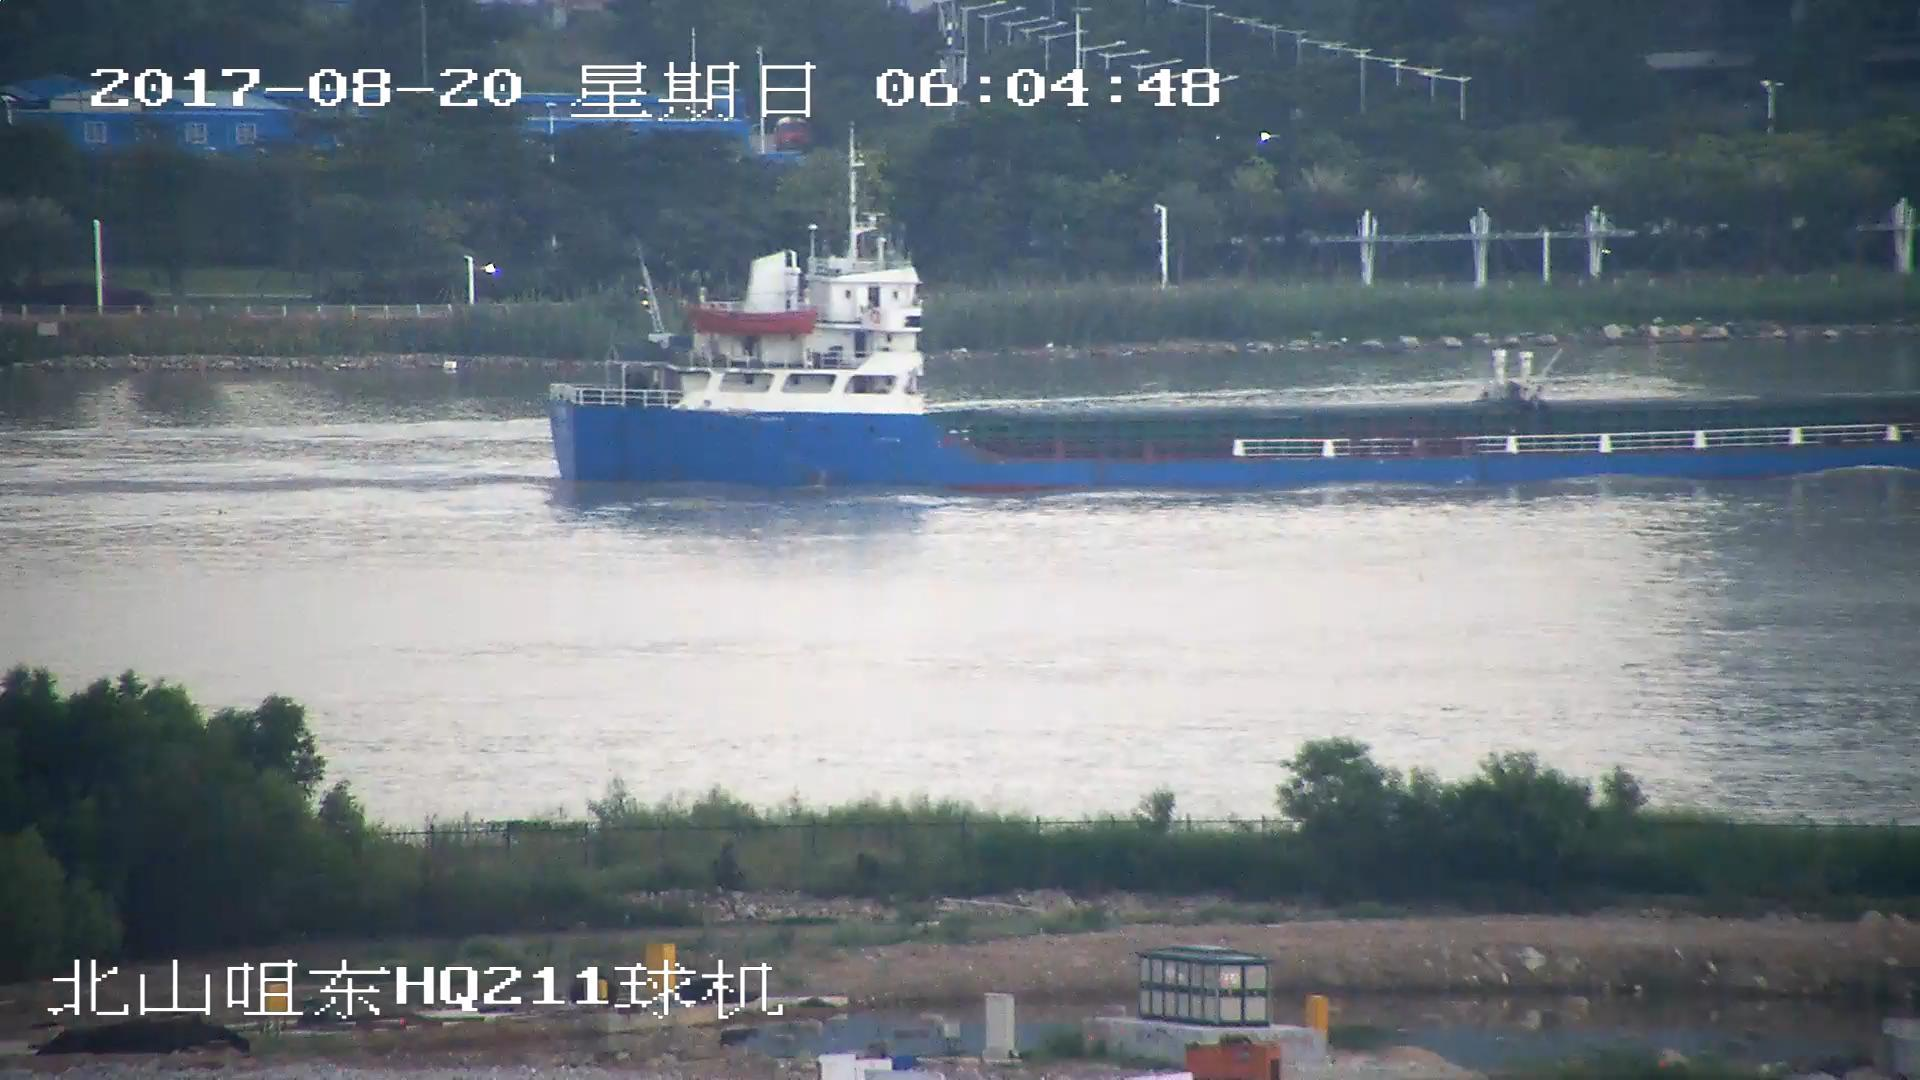Ship: (554, 222, 1920, 491)
